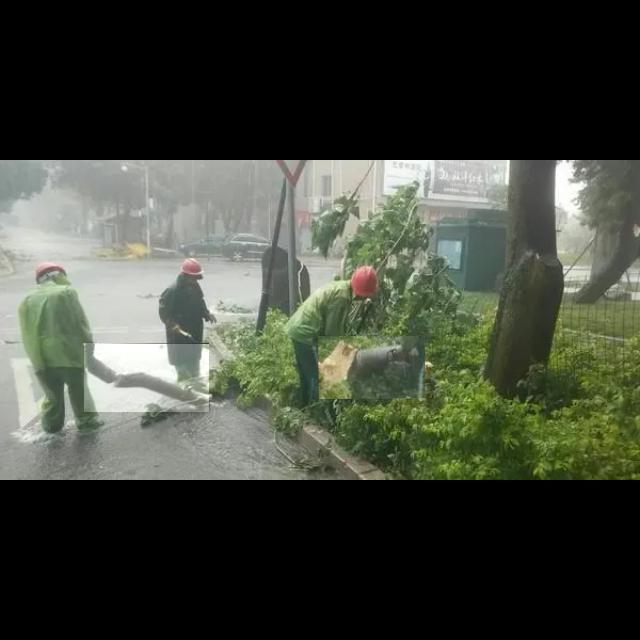Fallen Tree: (84, 343, 210, 413), (318, 336, 426, 400)
